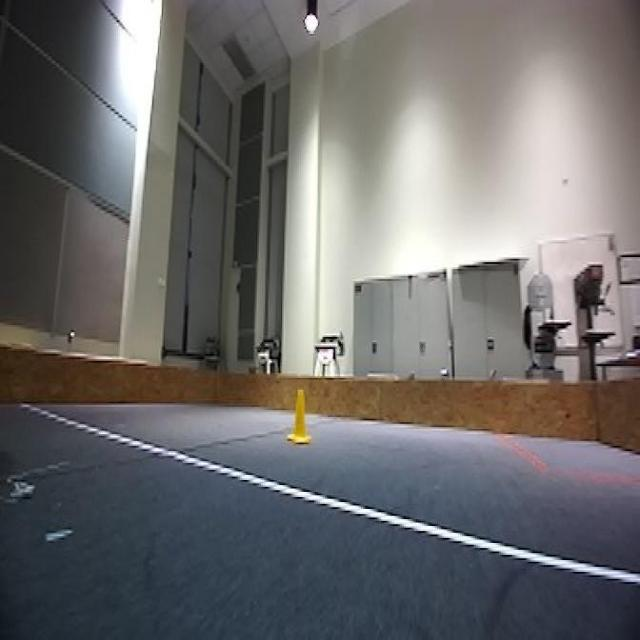frc_cone: (288, 388, 314, 446)
